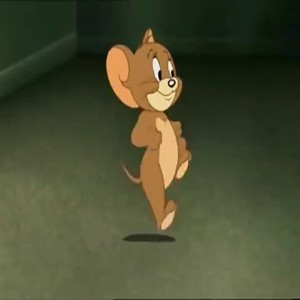Jerry: (98, 25, 193, 233)
